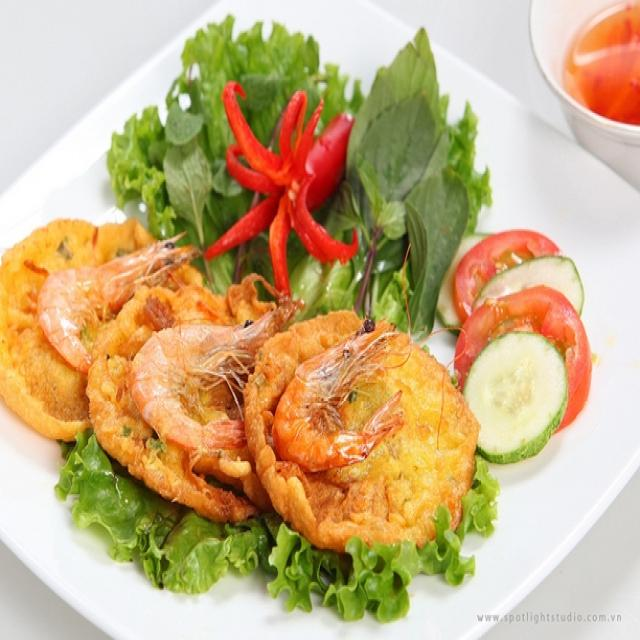炸货点心: (5, 9, 616, 622)
熟制海鲜: (5, 9, 616, 622)
